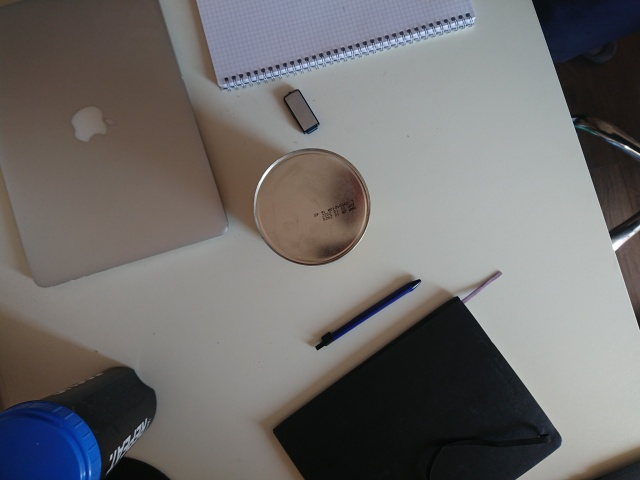Nescafe Classic 225g: (244, 143, 382, 274)
